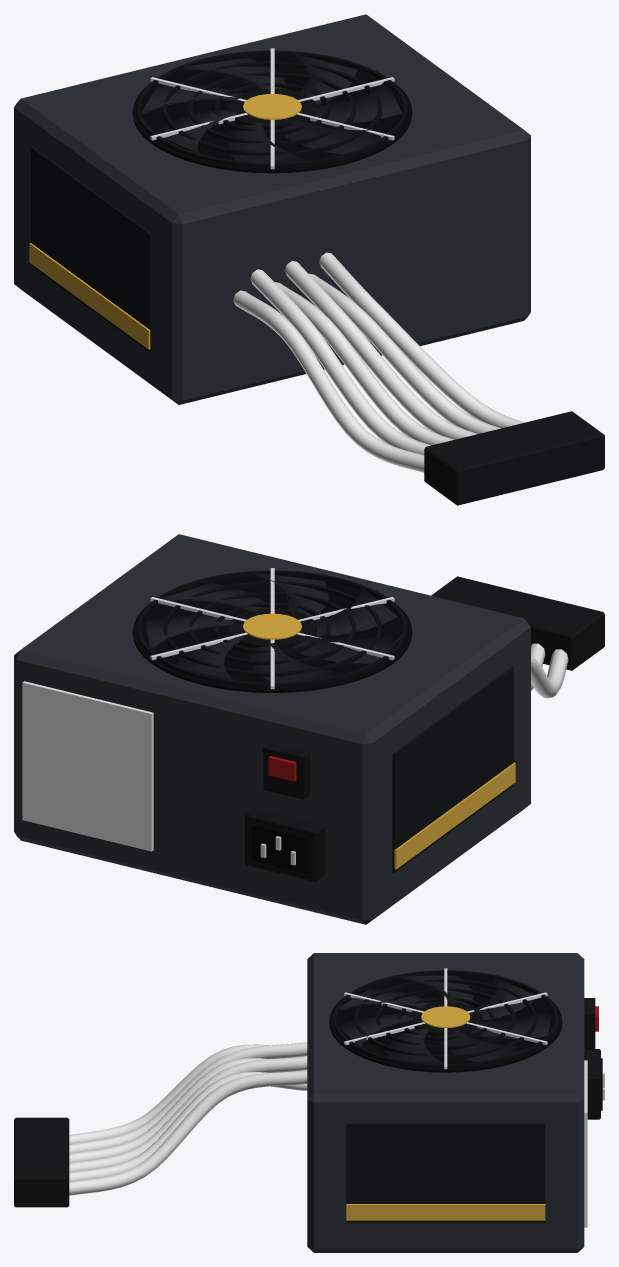
Rendered from hw_psu_550w_gold.glb.
The picture shows the model from 3 angles, top to bottom: view 1: azimuth 30°, elevation 25°; view 2: azimuth 150°, elevation 25°; view 3: azimuth 270°, elevation 25°; orthographic projection. The views are drawn at different scales.
Parts seen in each view (by area): view 1: Body, Rotor_Y_0; view 2: Body, Rotor_Y_0; view 3: Body, Rotor_Y_0.
Part boxes in pixels (x1,y1,x2,y2): Body: [14, 14, 604, 505]; Rotor_Y_0: [142, 53, 401, 162]; Body: [14, 534, 604, 924]; Rotor_Y_0: [145, 572, 402, 682]; Body: [14, 953, 604, 1252]; Rotor_Y_0: [338, 975, 552, 1063].
Size of the model in its own units: 0.1278 by 0.0662 by 0.2135.
